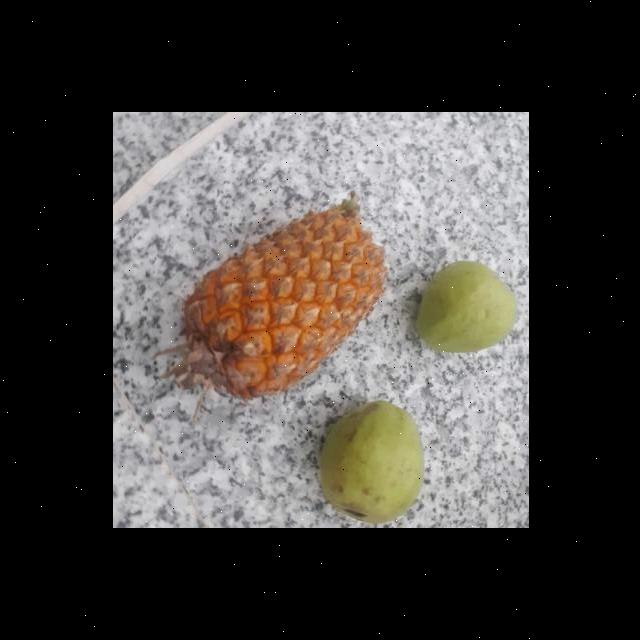guava: (322, 396, 421, 522), (417, 259, 515, 353)
pineapple: (182, 208, 395, 398)
